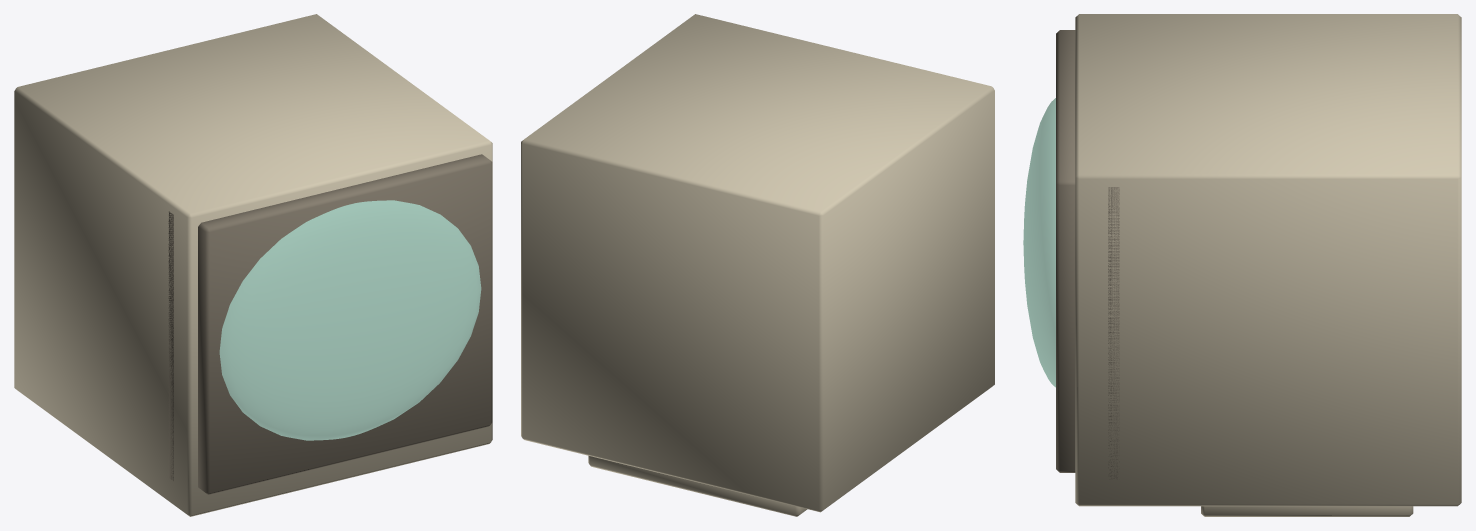
File: compute-monitor-era1.glb
The picture shows the model from 3 angles, left to right: view 1: azimuth 30°, elevation 25°; view 2: azimuth 150°, elevation 25°; view 3: azimuth 270°, elevation 25°; orthographic projection. The views are drawn at different scales.
Visible parts, largest first — view 1: mesh_compute-monitor-era1; view 2: mesh_compute-monitor-era1; view 3: mesh_compute-monitor-era1.
Part boxes in pixels (x1=…): mesh_compute-monitor-era1: x1=14, y1=14, x2=492, y2=516; mesh_compute-monitor-era1: x1=521, y1=14, x2=994, y2=516; mesh_compute-monitor-era1: x1=1023, y1=14, x2=1461, y2=516.
Size of the model in its own units: 0.4 by 0.42 by 0.4538.
